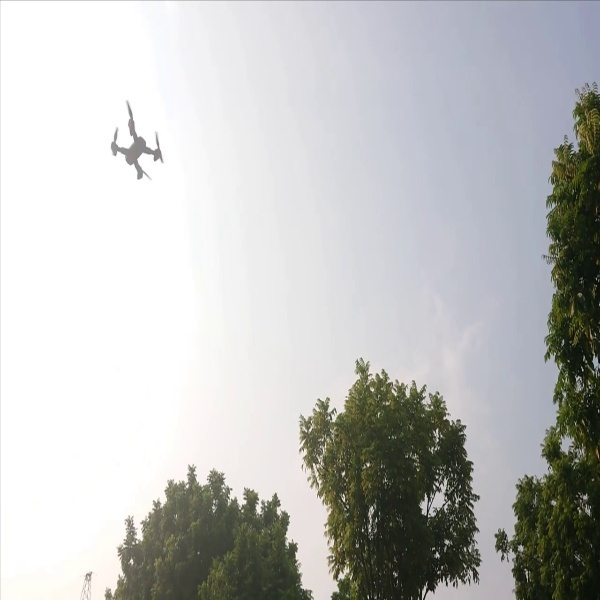drone: (97, 94, 179, 194)
